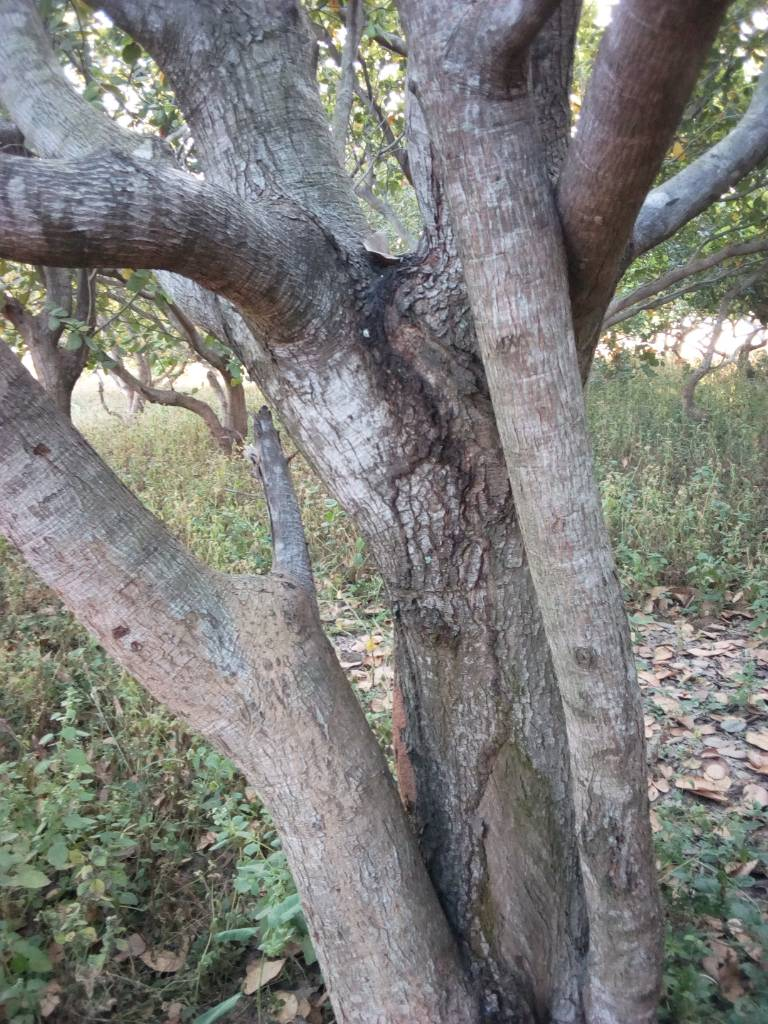Termites: (236, 594, 386, 886)
